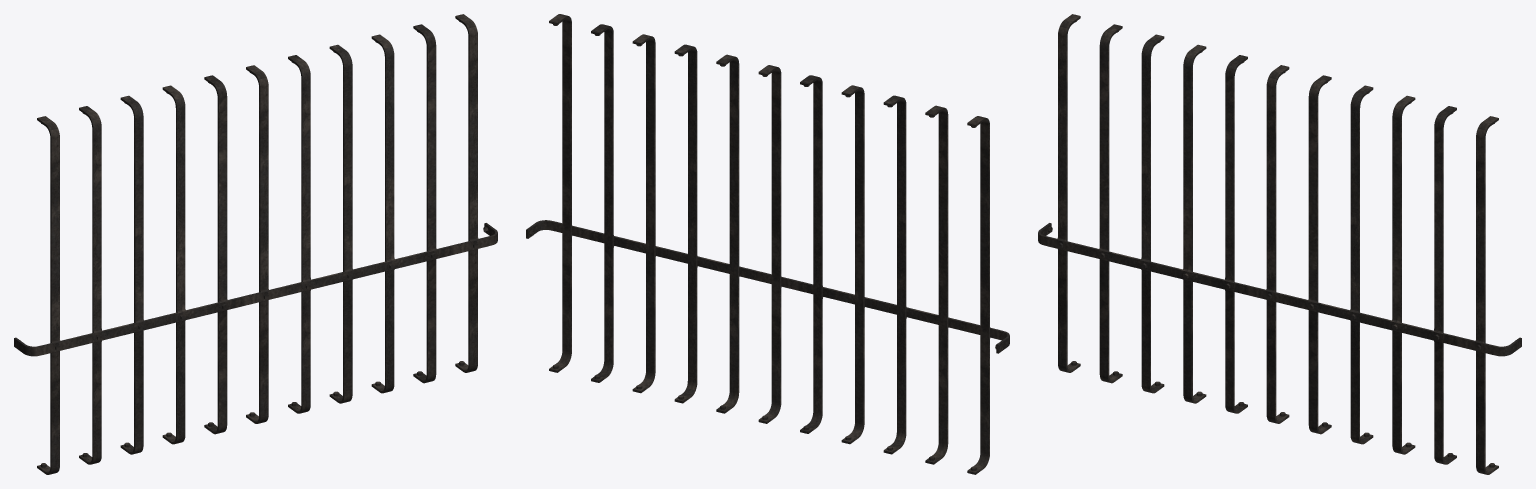
The model's file is window_metal_bars_double.fbx.
3 renders of one model, left to right at view 1: azimuth 30°, elevation 25°; view 2: azimuth 150°, elevation 25°; view 3: azimuth 330°, elevation 25°, orthographic.
Visible parts, largest first — view 1: window_metal_bars_double; view 2: window_metal_bars_double; view 3: window_metal_bars_double.
Boxes of the visible parts, x1=… form: window_metal_bars_double: x1=14, y1=14, x2=497, y2=474; window_metal_bars_double: x1=526, y1=14, x2=1009, y2=474; window_metal_bars_double: x1=1038, y1=14, x2=1521, y2=474.
Size of the model in its own units: 2.26 by 0.141 by 1.6.
